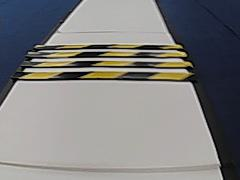bump: (4, 38, 204, 87)
